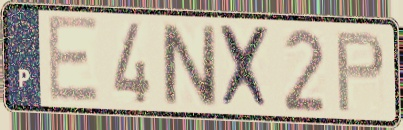2: (279, 25, 328, 115)
4: (110, 19, 154, 106)
E: (44, 11, 102, 106)
N: (158, 19, 221, 109)
P: (334, 29, 388, 115)
X: (218, 22, 273, 113)
